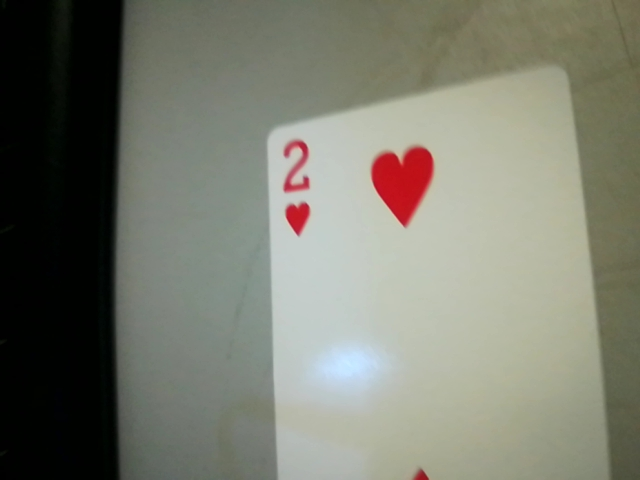hx 2: (265, 126, 327, 244)
